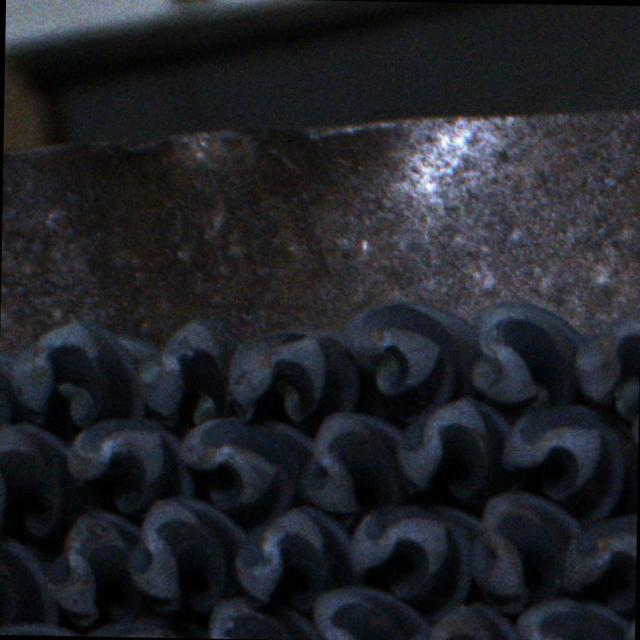tool_b: (342, 298, 480, 422), (499, 404, 638, 526), (10, 316, 158, 428), (349, 502, 480, 621), (126, 494, 248, 614), (466, 491, 581, 614), (138, 310, 258, 426), (225, 324, 362, 425), (393, 394, 522, 498), (468, 298, 586, 411), (67, 416, 197, 516), (300, 411, 410, 524), (175, 415, 298, 515), (232, 504, 352, 604), (42, 508, 142, 617), (0, 422, 71, 538), (573, 303, 640, 417), (561, 510, 637, 610), (308, 584, 428, 640), (0, 525, 59, 624)
